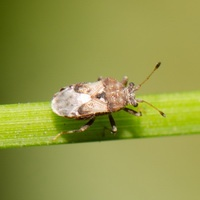insect: (51, 62, 165, 139)
